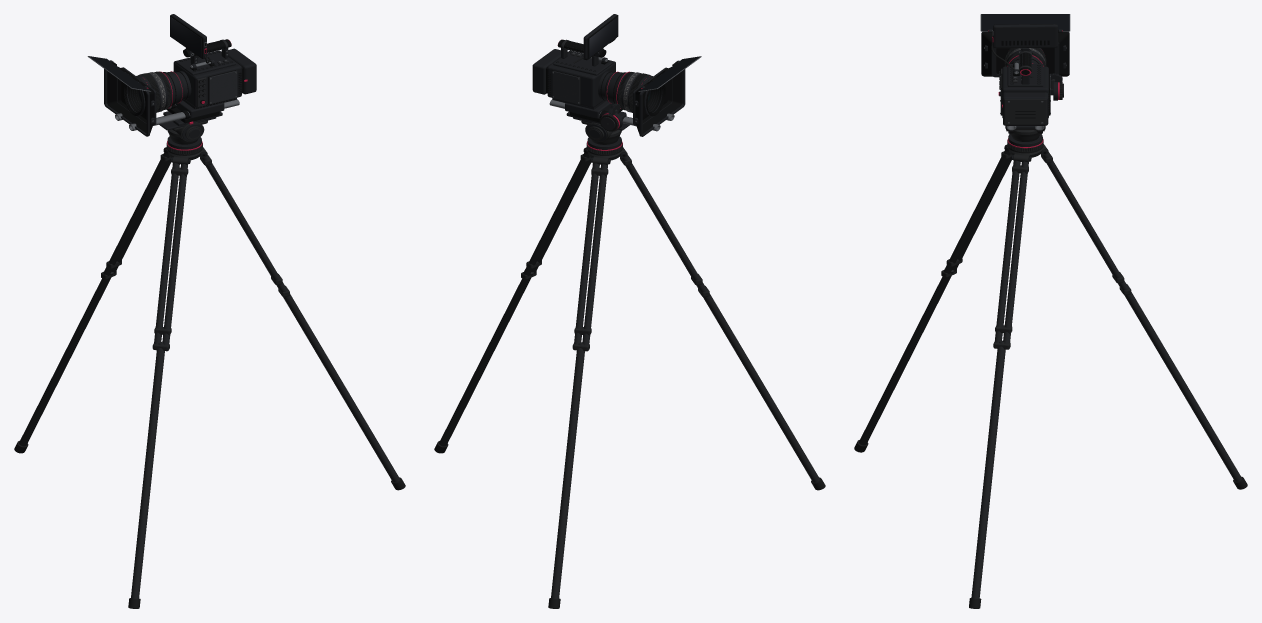
The model's file is avaris-camera-tripod.glb.
3 renders of one model, left to right at view 1: azimuth 30°, elevation 25°; view 2: azimuth 150°, elevation 25°; view 3: azimuth 270°, elevation 25°, orthographic.
Parts seen in each view (by area): view 1: Fluid head and twin-tube legs, Chassis, Matte box, Cine lens, Support and follow focus, Top handle, Monitor and swivel; view 2: Fluid head and twin-tube legs, Chassis, Matte box, Cine lens, Support and follow focus, Top handle, Monitor and swivel; view 3: Fluid head and twin-tube legs, Matte box, Chassis, Monitor and swivel, Top handle.
Part boxes in pixels (x1,y1,x2,y2): Fluid head and twin-tube legs: (14,116,405,608); Chassis: (173,48,256,107); Matte box: (87,56,156,136); Cine lens: (123,71,191,115); Support and follow focus: (115,98,239,130); Top handle: (175,39,235,75); Monitor and swivel: (170,14,211,63); Fluid head and twin-tube legs: (434,116,825,608); Chassis: (532,49,615,107); Matte box: (633,56,701,136); Cine lens: (598,71,665,116); Support and follow focus: (549,98,674,131); Top handle: (553,39,614,75); Monitor and swivel: (573,14,618,63); Fluid head and twin-tube legs: (854,126,1247,608); Matte box: (980,14,1070,77); Chassis: (998,66,1050,125); Monitor and swivel: (991,24,1058,77); Top handle: (1007,49,1043,86).
Bounding box in the file's own units: 0.8099 × 1.14 × 0.8247.
Materials: 13 (4 with a texture image).
